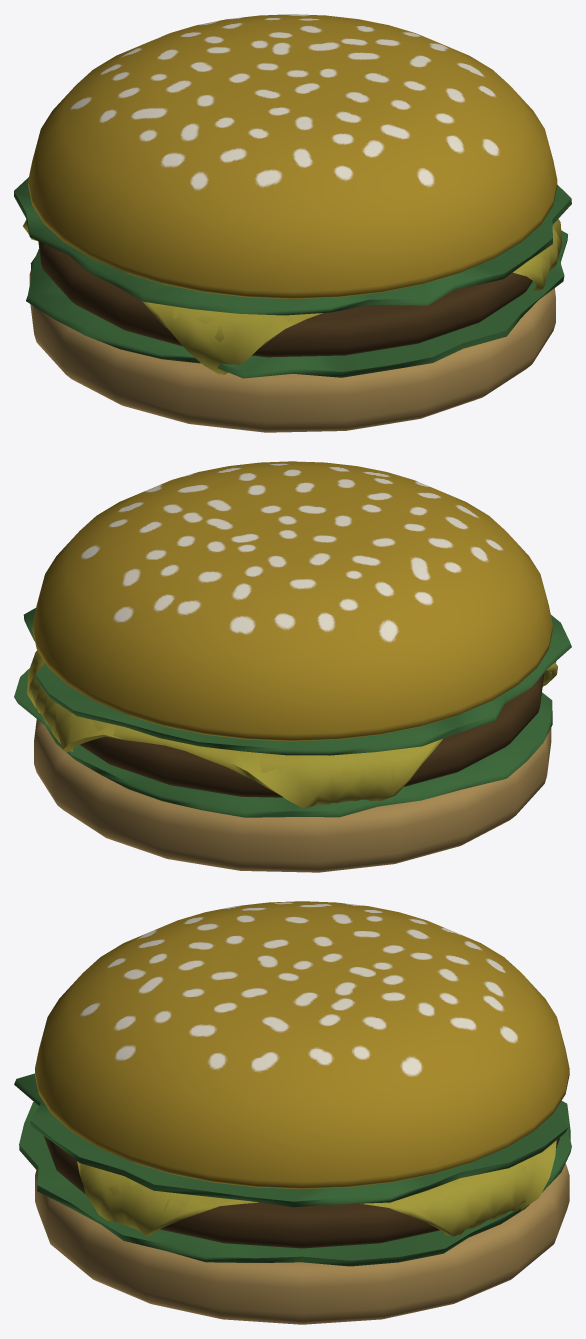
File: burger.fbx
The picture shows the model from 3 angles, top to bottom: view 1: azimuth 30°, elevation 25°; view 2: azimuth 150°, elevation 25°; view 3: azimuth 270°, elevation 25°; orthographic projection. The views are drawn at different scales.
Visible parts, largest first — view 1: Zylinder_3, Zylinder, Zylinder_2, Zylinder_1, Zylinder_4, Würfel; view 2: Zylinder_3, Zylinder, Würfel, Zylinder_1, Zylinder_2, Zylinder_4; view 3: Zylinder_3, Zylinder, Würfel, Zylinder_4, Zylinder_1, Zylinder_2.
Part boxes in pixels (left/top/right/bottom): Zylinder_3: left=28, top=14, right=557, bottom=298; Zylinder: left=29, top=270, right=555, bottom=432; Zylinder_2: left=38, top=241, right=532, bottom=357; Zylinder_1: left=26, top=230, right=567, bottom=378; Zylinder_4: left=14, top=177, right=571, bottom=315; Würfel: left=23, top=219, right=562, bottom=374; Zylinder_3: left=32, top=461, right=552, bottom=741; Zylinder: left=34, top=719, right=551, bottom=872; Würfel: left=27, top=650, right=557, bottom=808; Zylinder_1: left=14, top=662, right=555, bottom=817; Zylinder_2: left=79, top=673, right=544, bottom=797; Zylinder_4: left=23, top=608, right=571, bottom=755; Zylinder_3: left=35, top=901, right=569, bottom=1188; Zylinder: left=35, top=1163, right=569, bottom=1324; Würfel: left=77, top=1140, right=556, bottom=1236; Zylinder_4: left=14, top=1073, right=568, bottom=1207; Zylinder_1: left=19, top=1101, right=571, bottom=1266; Zylinder_2: left=44, top=1136, right=559, bottom=1248.
Size of the model in its own units: 105 by 52.64 by 104.
5 materials, 1 textured.
